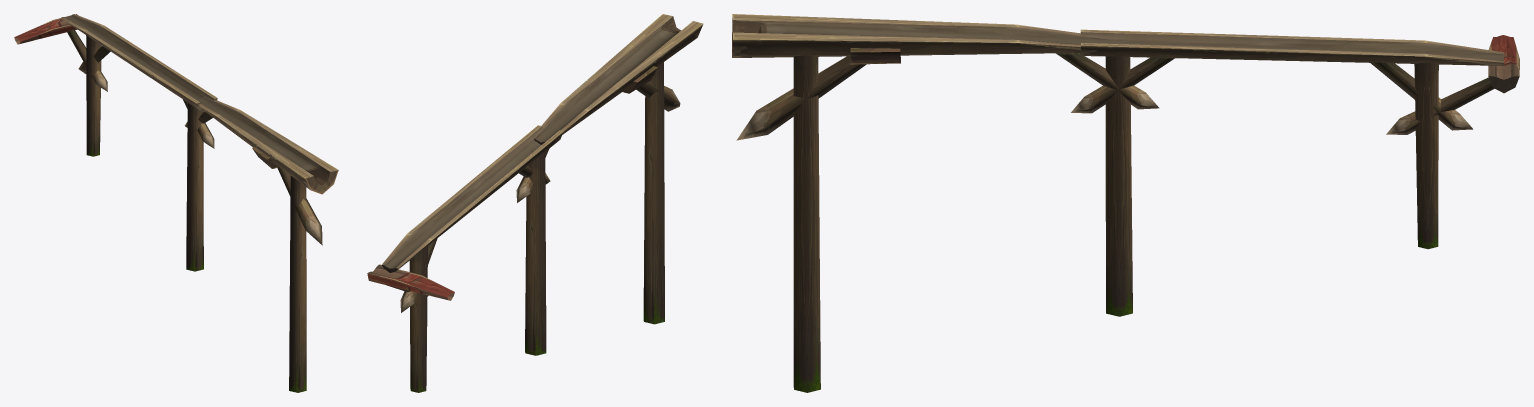
The model's file is fb_xsc_jz_10_d.FBX.
3 views of the same model, side by side, from view 1: azimuth 30°, elevation 25°; view 2: azimuth 150°, elevation 25°; view 3: azimuth 270°, elevation 25° (orthographic). The views are drawn at different scales.
Parts seen in each view (by area): view 1: fb_xsc_jz_10_j; view 2: fb_xsc_jz_10_j; view 3: fb_xsc_jz_10_j.
Part boxes in pixels (x1=…): fb_xsc_jz_10_j: x1=14, y1=14, x2=338, y2=392; fb_xsc_jz_10_j: x1=367, y1=14, x2=703, y2=392; fb_xsc_jz_10_j: x1=732, y1=14, x2=1519, y2=392.
Size of the model in its own units: 352 by 1075 by 2132.
